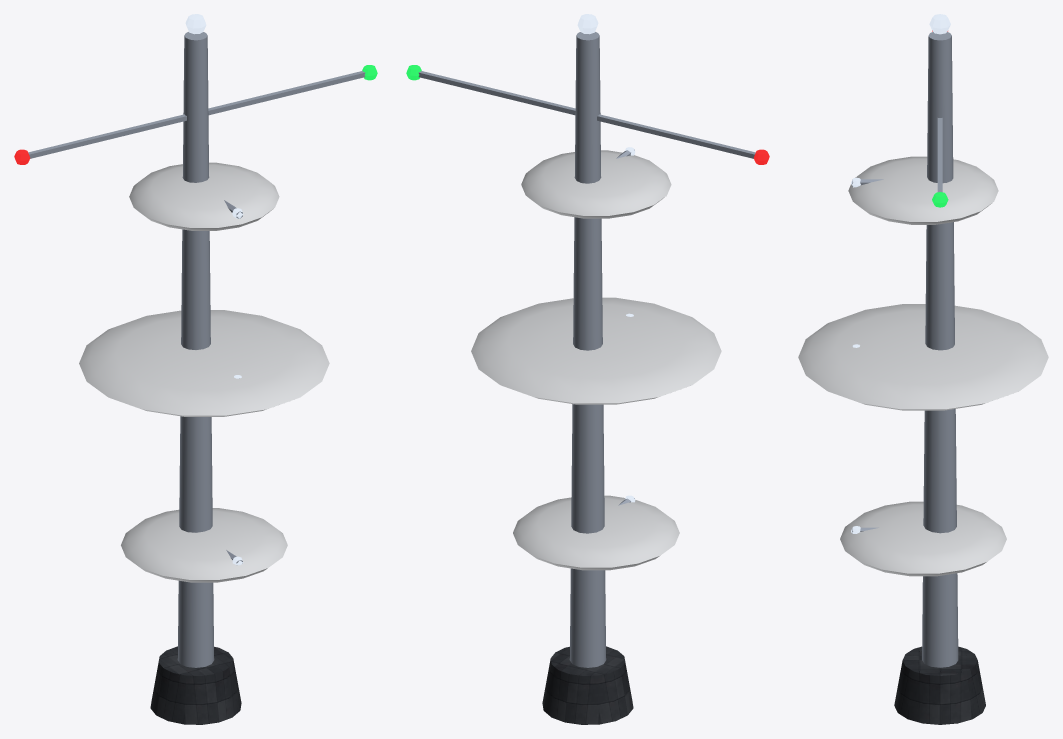
The model's file is arch_mast.glb.
3 renders of one model, left to right at view 1: azimuth 30°, elevation 25°; view 2: azimuth 150°, elevation 25°; view 3: azimuth 270°, elevation 25°, orthographic.
Parts seen in each view (by area): view 1: arch_mast; view 2: arch_mast; view 3: arch_mast.
Boxes of the visible parts, left/top/right/bottom form: arch_mast: left=14, top=14, right=377, bottom=724; arch_mast: left=406, top=14, right=769, bottom=724; arch_mast: left=798, top=14, right=1048, bottom=724.
Size of the model in its own units: 5 by 9.13 by 3.
6 materials, 1 textured.
